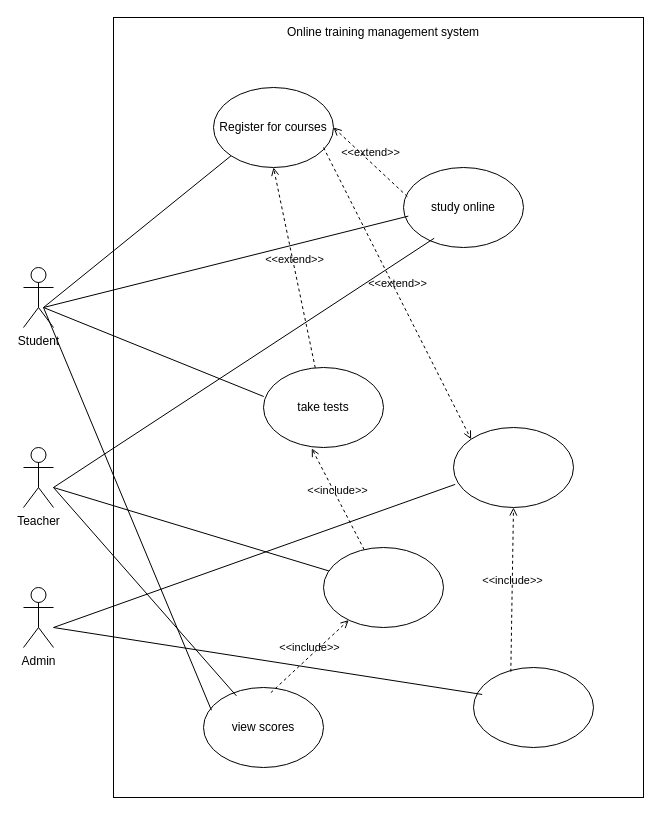
Image size: 661x815. Some labels were removed from this diagram. The centre of each missing label's shape, as x and y in pixels:
"account management" goes at point (533, 707).
"courses management" goes at point (513, 467).
"mark assignments" goes at point (383, 587).
